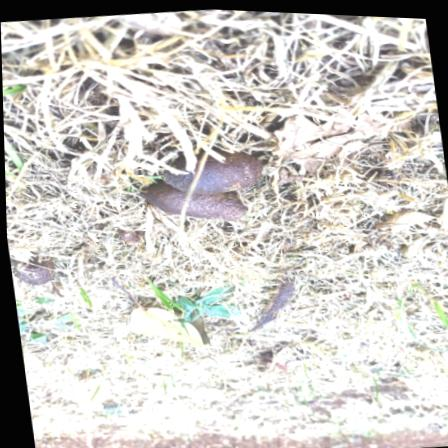dog-poop: (126, 132, 267, 235)
